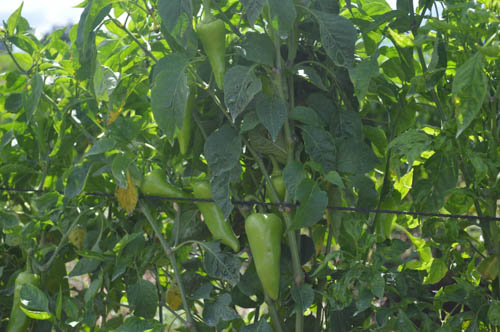ChiliPepper: (239, 214, 281, 293), (189, 181, 235, 248), (199, 20, 233, 86), (142, 172, 181, 199), (173, 105, 191, 155)
